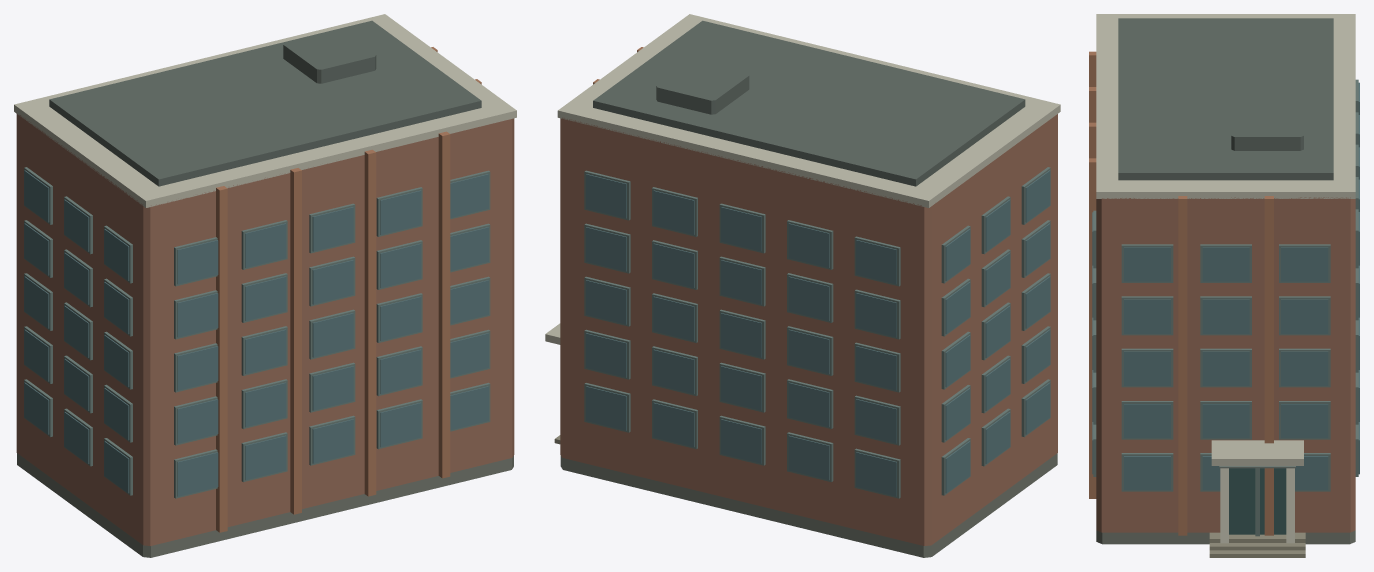
The picture shows the model from 3 angles, left to right: view 1: azimuth 30°, elevation 25°; view 2: azimuth 150°, elevation 25°; view 3: azimuth 270°, elevation 25°; orthographic projection.
Visible parts, largest first — view 1: form, glaze, relief, glowing; view 2: form, glaze, relief, glowing; view 3: form, glaze, relief, glowing.
Boxes of the visible parts, <box> form: form: <box>14,14,516,557</box>; glaze: <box>24,170,488,496</box>; relief: <box>24,167,490,498</box>; glowing: <box>104,313,353,386</box>; form: <box>545,14,1060,557</box>; glaze: <box>586,170,1050,496</box>; relief: <box>584,167,1050,498</box>; glowing: <box>721,276,1050,357</box>; form: <box>1089,14,1355,557</box>; glaze: <box>1092,82,1359,534</box>; relief: <box>1093,79,1358,543</box>; glowing: <box>1281,351,1328,385</box>.
Bounding box in the file's own units: 14.54 × 12.71 × 8.35.
